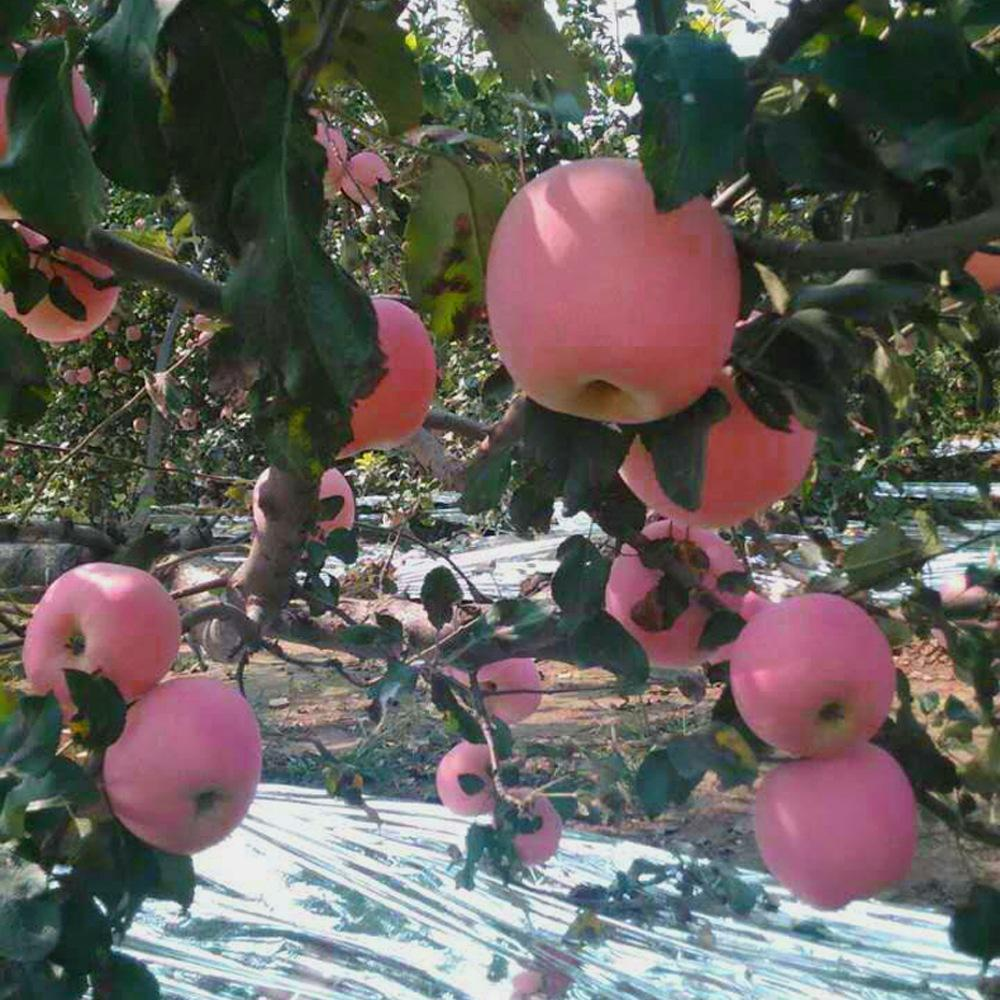apple: (481, 162, 740, 430), (101, 675, 265, 858), (610, 388, 819, 525), (752, 747, 919, 912), (726, 595, 893, 760), (23, 563, 178, 720)
